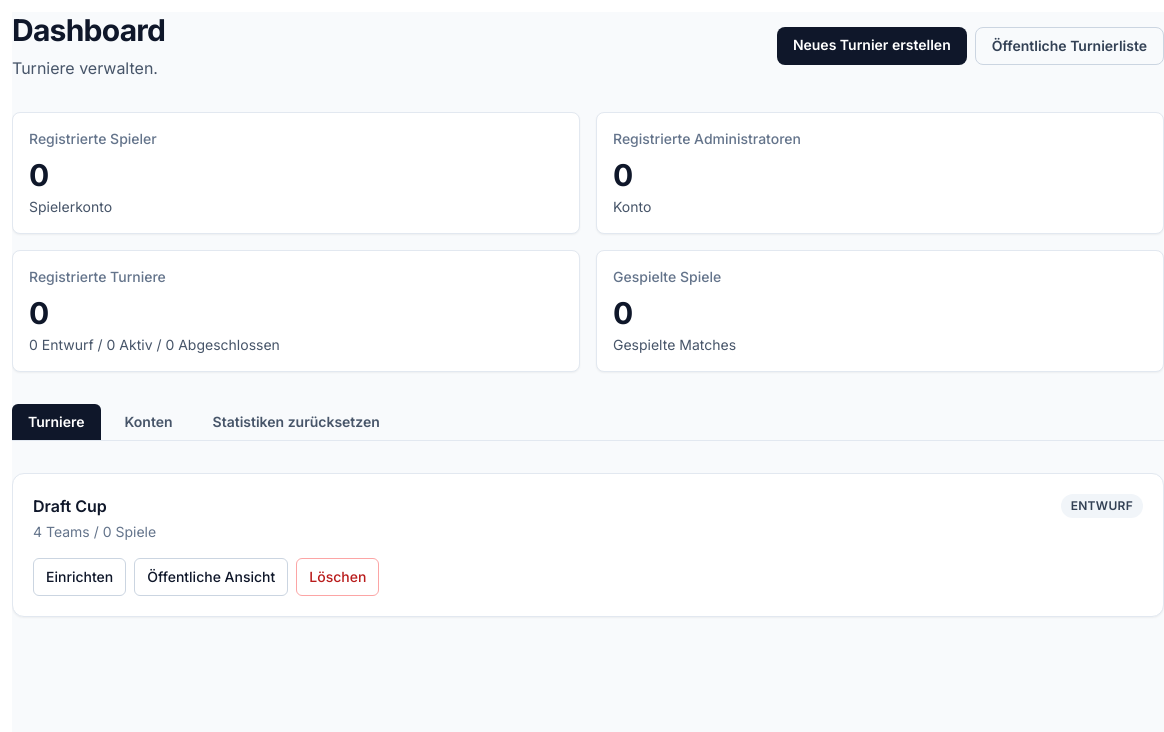
Test case: frontend localization › translates admin dashboard labels and actions
This screenshot has width=1164, height=732.
Expected: the link "Öffentliche Turnierliste" is shown, 975,27 -> 1163,65
Expected: the tab "Turniere" is shown, 12,404 -> 100,440
Click the tab "Konten".
click(148, 422)  # box 108,404 -> 188,440
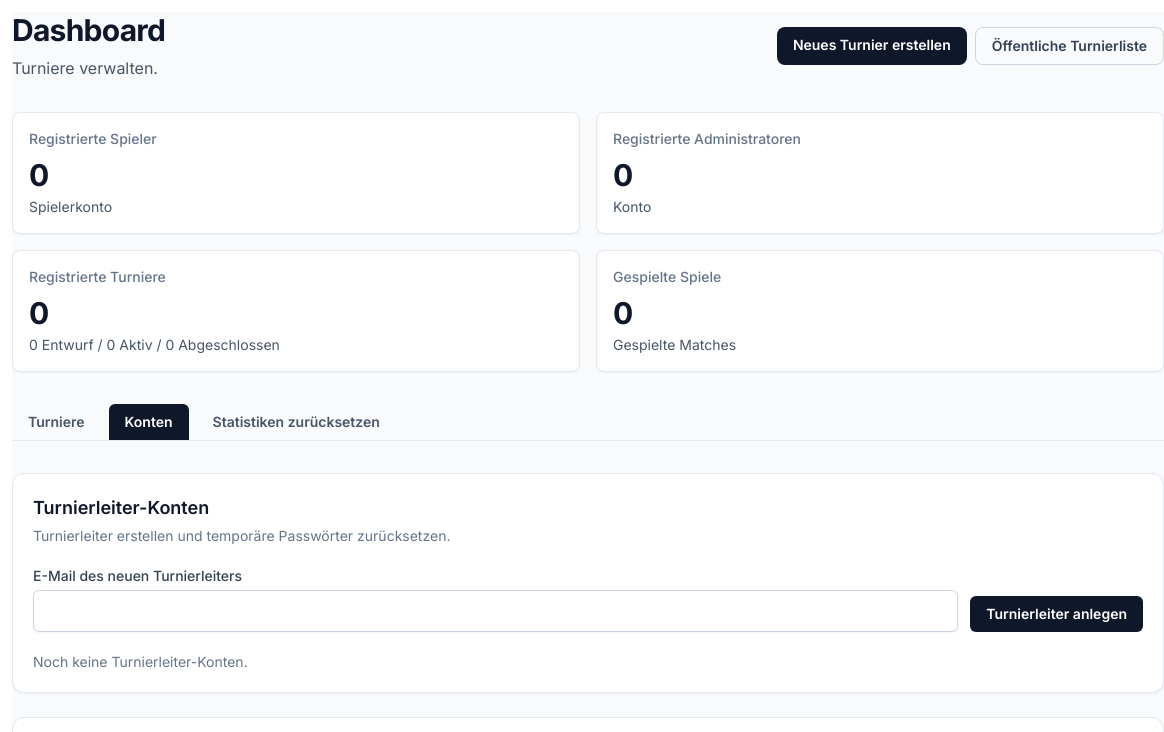
Result: the heading "Turnierleiter-Konten" is shown at 33,497 -> 209,518
